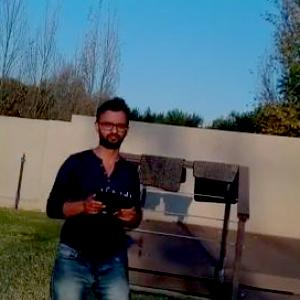follow: (40, 93, 148, 299)
